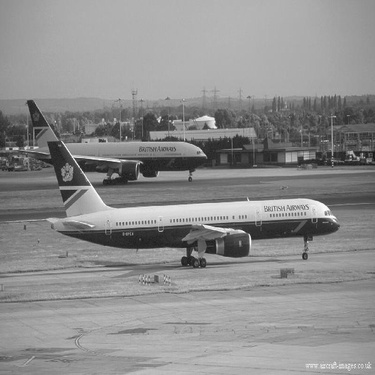airplane: (31, 129, 349, 277), (9, 87, 207, 183)
